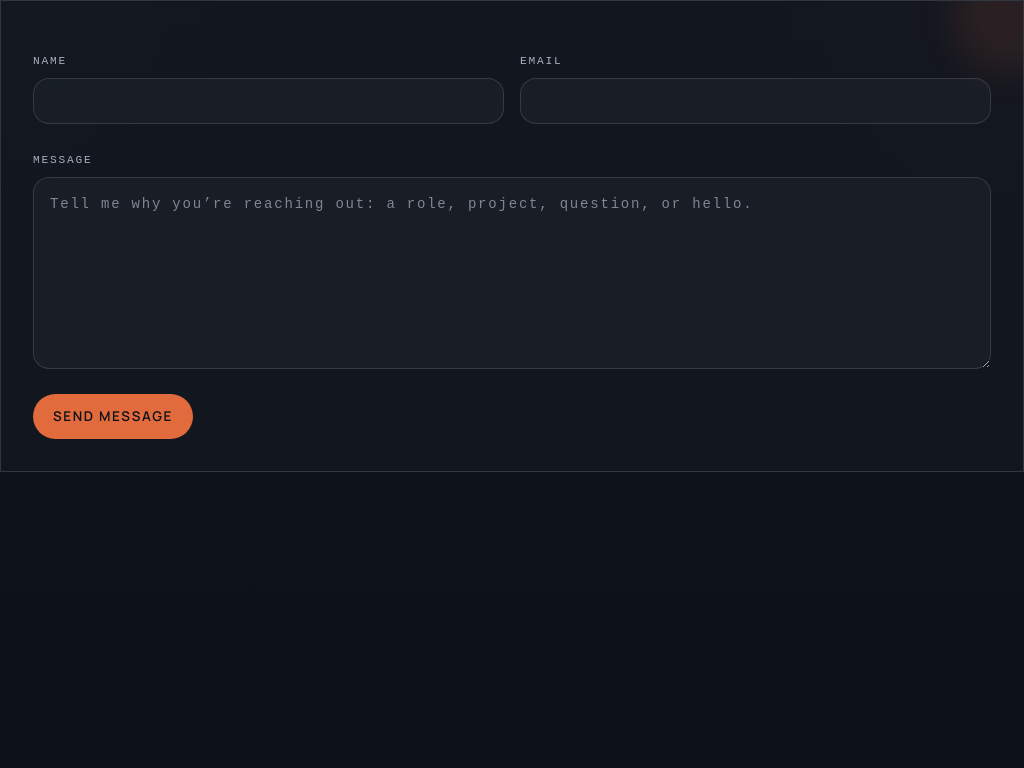
it: ContactForm › shows fallback error when fetch rejects
The width and height of the screenshot is (1024, 768).
Type "Jane Dev" into the field labelled "Name" at (268, 101), box [33,78,504,124]
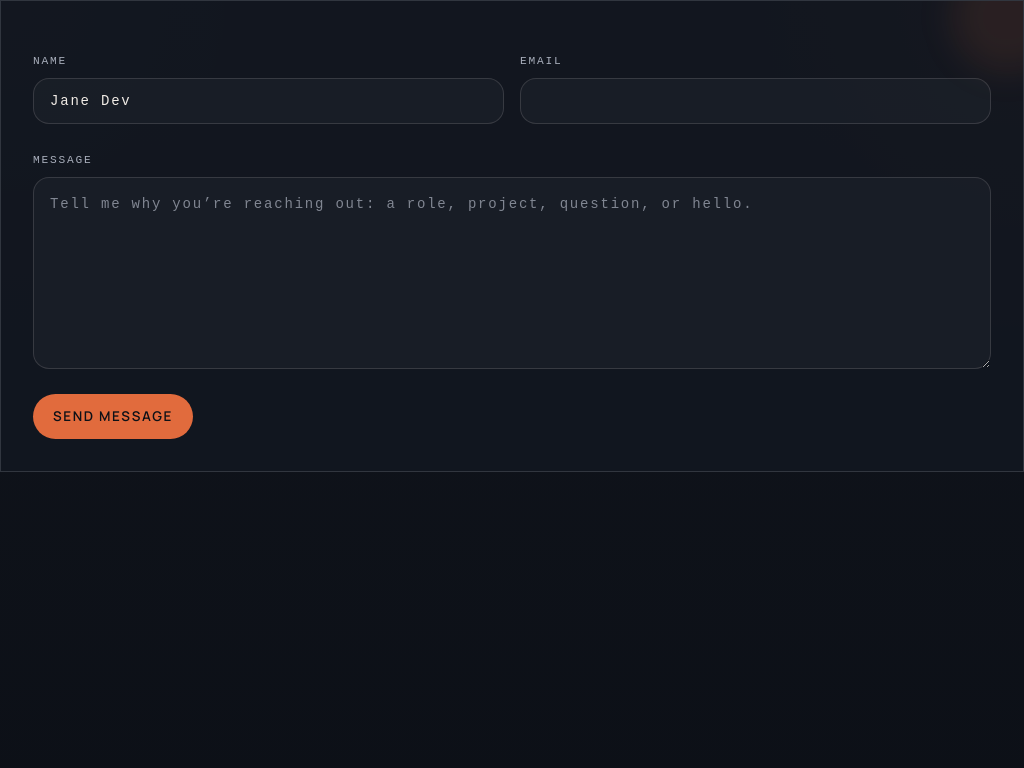
Type "jane@example.com" into the field labelled "Email" at (756, 101), box [520,78,991,124]
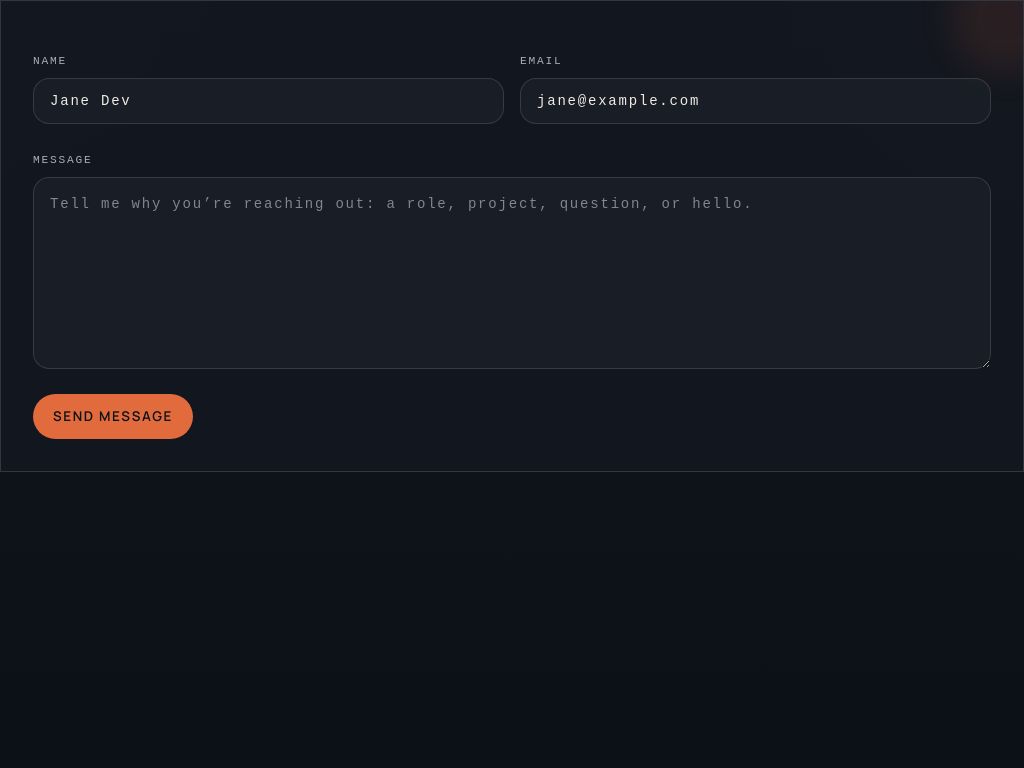
Replace the text in the text box labelled "Message" with "Hello, this is a long-enough test message." at (512, 273), box [33,177,991,369]
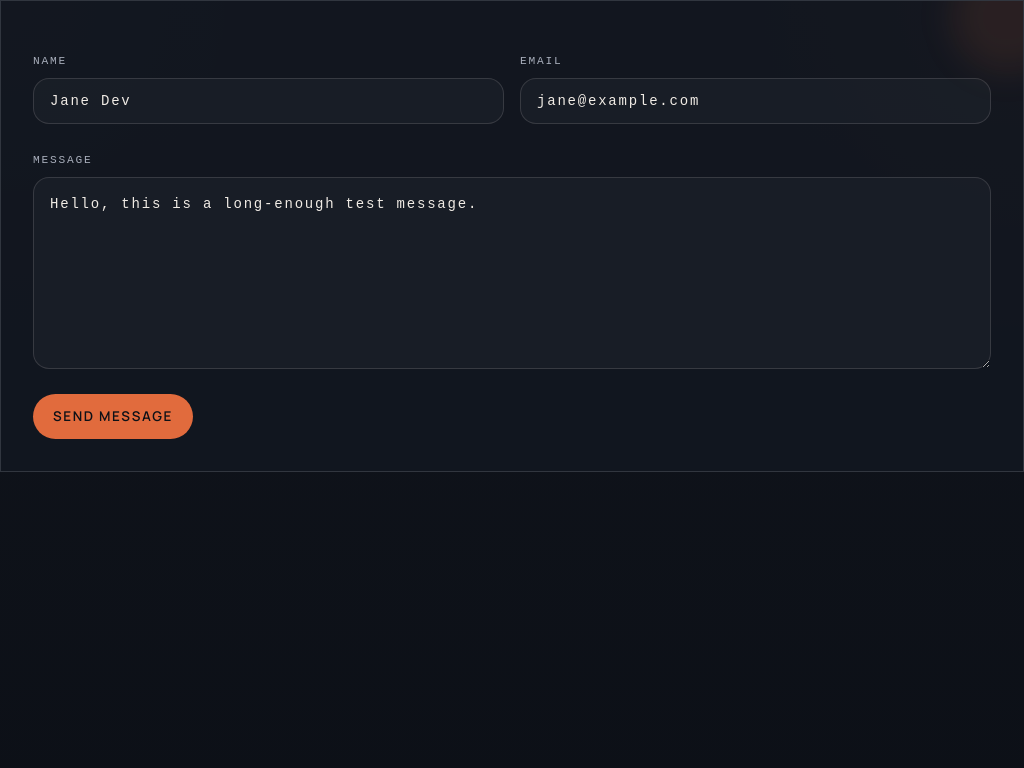
Submit the form "Name Email Message Send message"
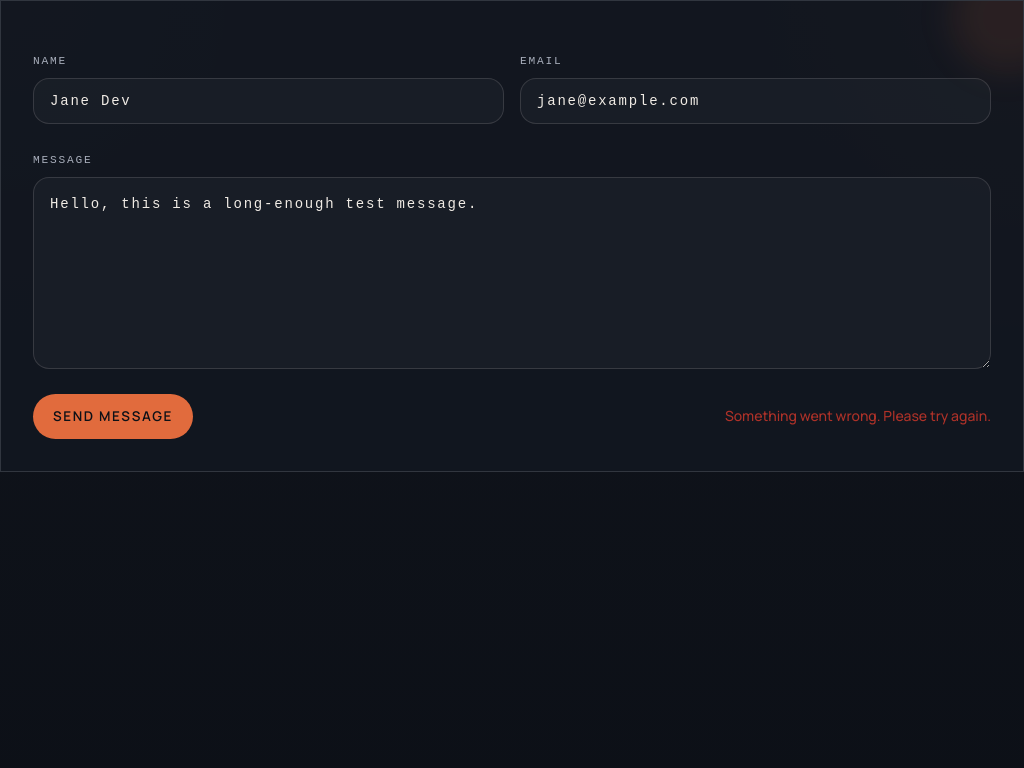
Now the text "Something went wrong. Please try again." is shown, box [725,406,991,426]
